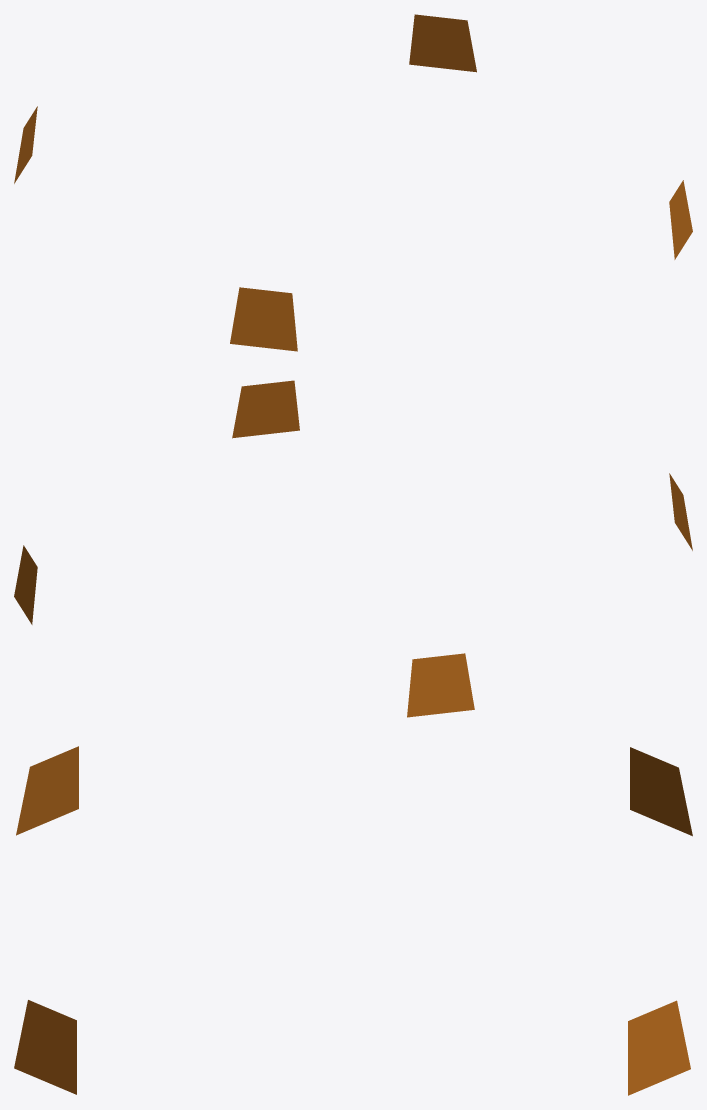
File: cluster_18.fbx
The picture shows the model from 3 angles, top to bottom: view 1: azimuth 30°, elevation 25°; view 2: azimuth 150°, elevation 25°; view 3: azimuth 270°, elevation 25°; orthographic projection. The views are drawn at different scales.
Parts seen in each view (by area): view 1: cluster_18; view 2: cluster_18; view 3: cluster_18.
Part boxes in pixels (x1,y1,x2,y2): cluster_18: [14, 14, 692, 351]; cluster_18: [14, 380, 692, 717]; cluster_18: [14, 746, 692, 1095].
Bounding box in the file's own units: 84598 × 9454 × 84598.
